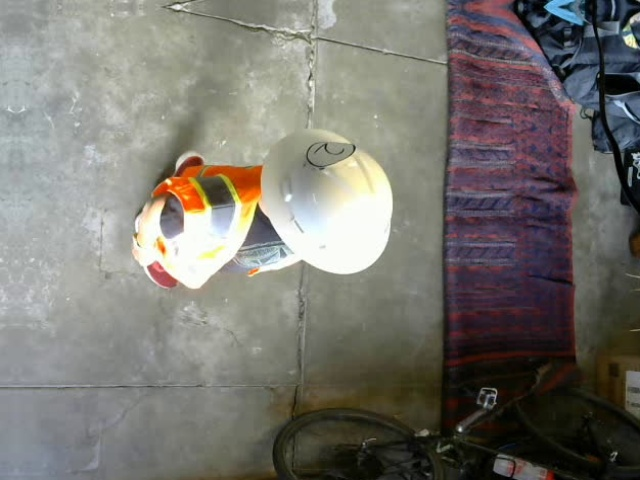two: (304, 139, 356, 166)
